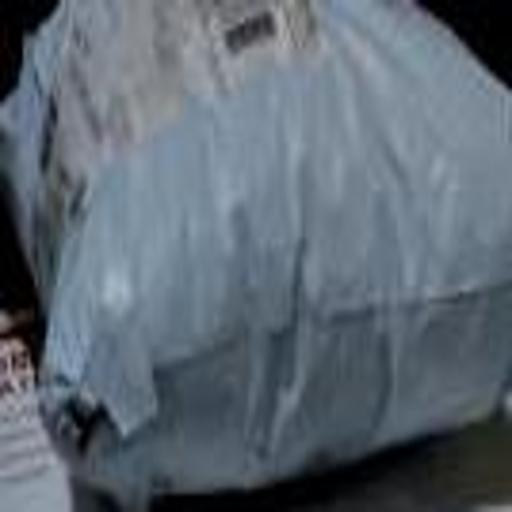Other: (45, 0, 511, 496)
